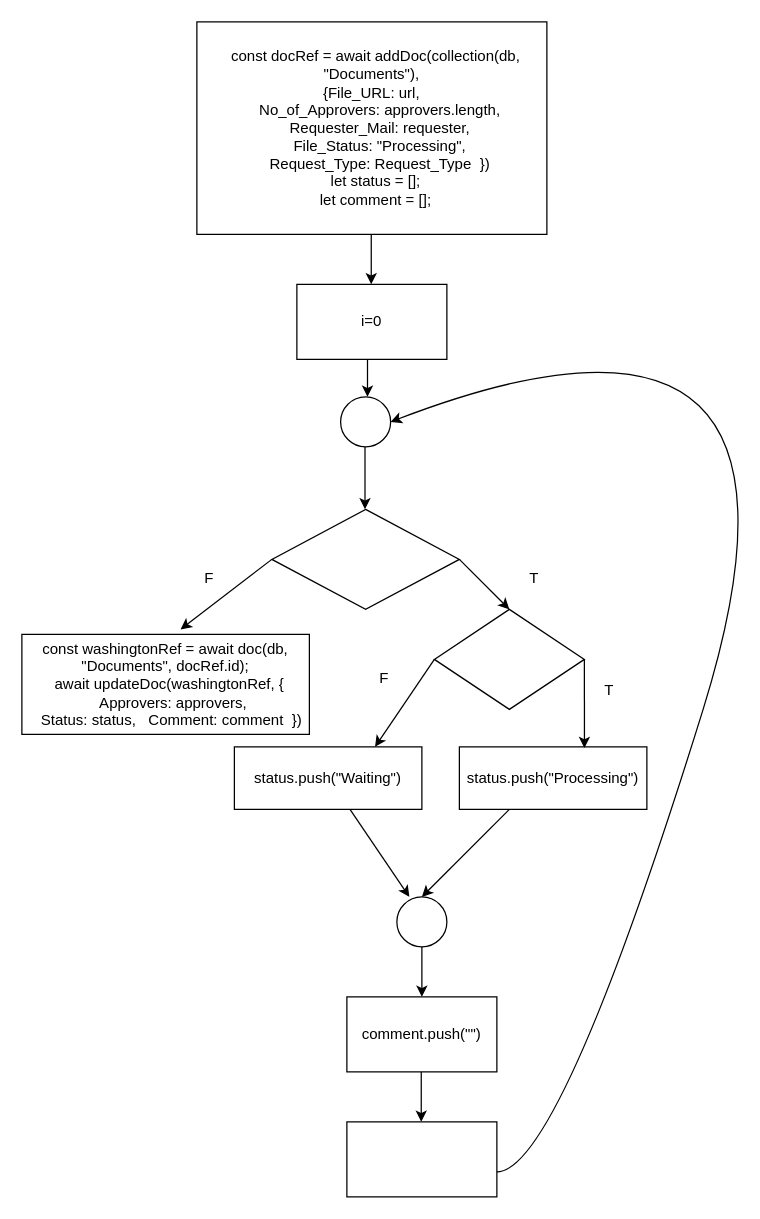
Image size: 760x1219. Some labels were removed from this diagram. The centre of each missing label's shape, as x and y in pixels:
i < approvers.length: pixel 365 558
i= i+1: pixel 421 1159
if (i === 0): pixel 508 658
